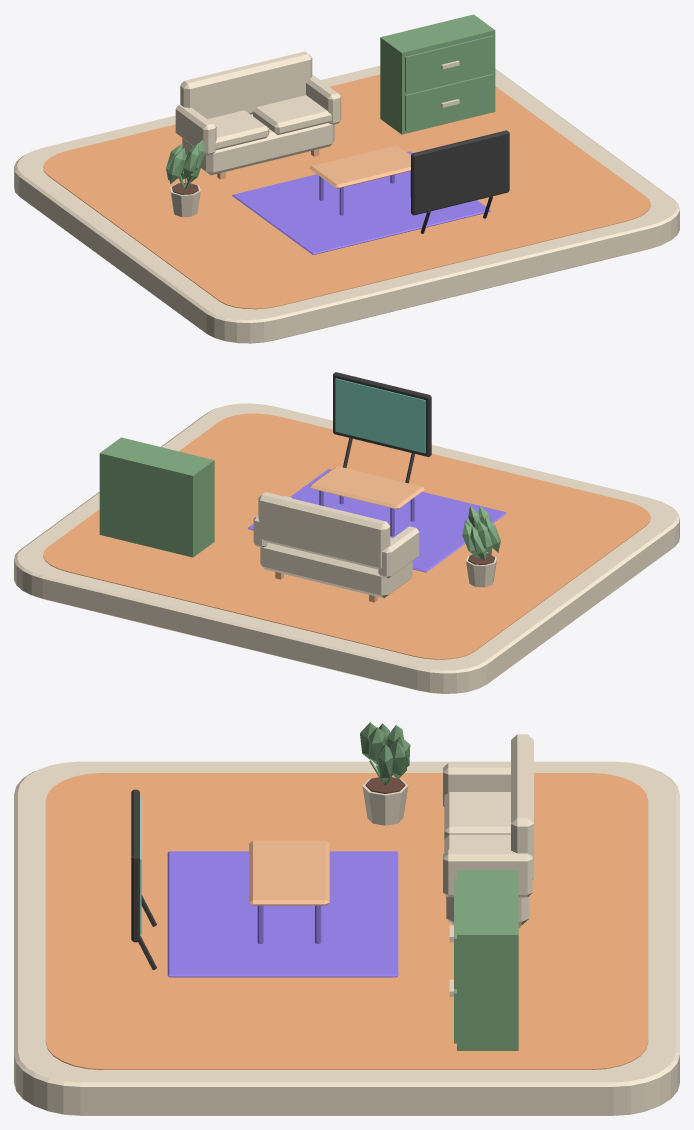
3 views of the same model, one above another, from view 1: azimuth 30°, elevation 25°; view 2: azimuth 150°, elevation 25°; view 3: azimuth 270°, elevation 25° (orthographic). The views are drawn at different scales.
Visible parts, largest first — view 1: COM-02 Floor Surface, COM-01 Rounded Base Direct, Cabinet, Rug, TV frame, Back, Base, Rounded table top, Pot, Seat cushion.001, Seat cushion, Arm (+1 smaller); view 2: COM-02 Floor Surface, COM-01 Rounded Base Direct, Cabinet, Back, Rug, Screen, Base, Rounded table top, Pot, TV frame, Arm; view 3: COM-02 Floor Surface, COM-01 Rounded Base Direct, Rug, Cabinet, Rounded table top, Pot, Seat cushion, Back, Arm.001, Arm, TV frame, Seat cushion.001.
Boxes of the visible parts, bbox=[...] form: COM-02 Floor Surface: bbox=[43, 74, 650, 309]; COM-01 Rounded Base Direct: bbox=[14, 65, 679, 343]; Cabinet: bbox=[380, 14, 495, 134]; Rug: bbox=[232, 151, 490, 254]; TV frame: bbox=[411, 130, 509, 215]; Back: bbox=[180, 51, 312, 118]; Base: bbox=[182, 114, 334, 175]; Rounded table top: bbox=[309, 145, 410, 188]; Pot: bbox=[166, 140, 205, 217]; Seat cushion.001: bbox=[253, 95, 331, 134]; Seat cushion: bbox=[207, 110, 269, 149]; Arm: bbox=[175, 104, 216, 155]; COM-02 Floor Surface: bbox=[43, 413, 650, 659]; COM-01 Rounded Base Direct: bbox=[14, 403, 679, 693]; Cabinet: bbox=[99, 437, 214, 557]; Back: bbox=[258, 492, 390, 569]; Rug: bbox=[248, 469, 506, 572]; Screen: bbox=[335, 378, 425, 453]; Base: bbox=[260, 543, 412, 598]; Rounded table top: bbox=[309, 466, 424, 509]; Pot: bbox=[462, 505, 500, 587]; TV frame: bbox=[333, 372, 431, 456]; Arm: bbox=[378, 526, 419, 578]; COM-02 Floor Surface: bbox=[45, 773, 648, 1069]; COM-01 Rounded Base Direct: bbox=[14, 761, 679, 1115]; Rug: bbox=[167, 851, 398, 977]; Cabinet: bbox=[449, 870, 518, 1050]; Rounded table top: bbox=[249, 840, 329, 905]; Pot: bbox=[360, 722, 410, 825]; Seat cushion: bbox=[444, 792, 510, 838]; Back: bbox=[511, 734, 533, 879]; Arm.001: bbox=[443, 849, 532, 897]; Arm: bbox=[443, 763, 510, 806]; TV frame: bbox=[131, 789, 139, 942]; Seat cushion.001: bbox=[444, 834, 510, 852].
Bounding box in the file's own units: 6 × 1.38 × 5.2.
Materials: 1 (1 with a texture image).
